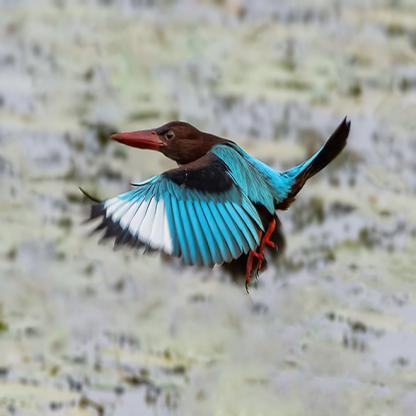Burung: (79, 114, 350, 292)
